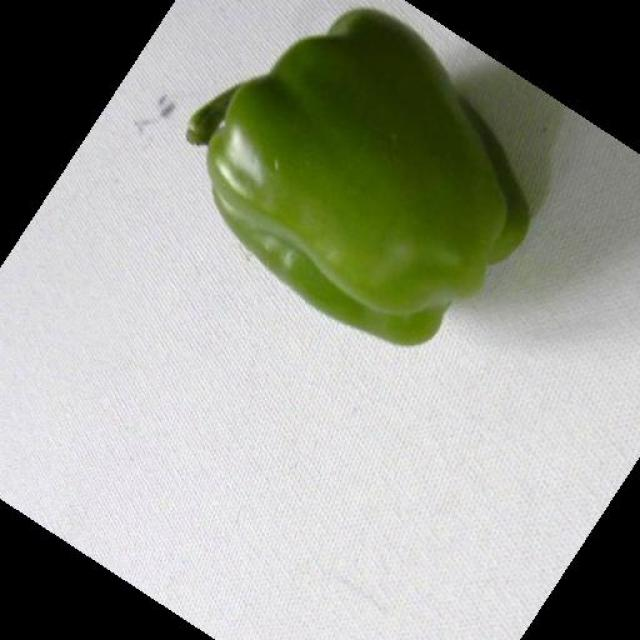Fresh_Capsicum: (188, 59, 490, 325)
